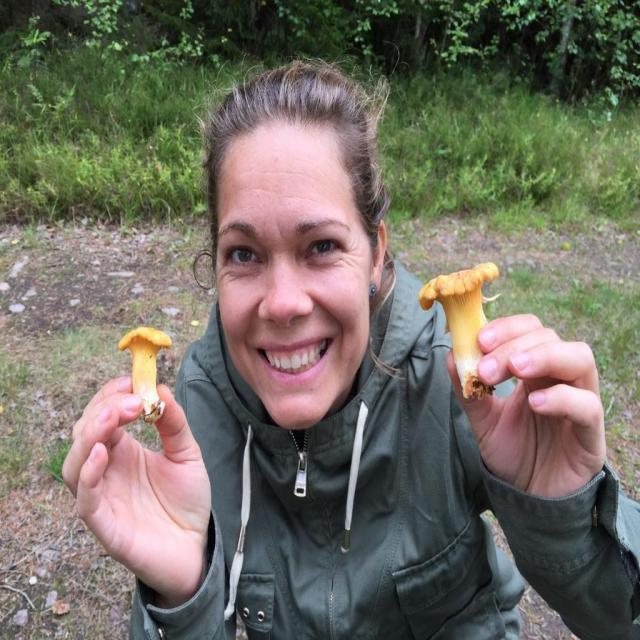Cantharellus cibarius: (422, 266, 499, 396), (121, 330, 171, 416)
